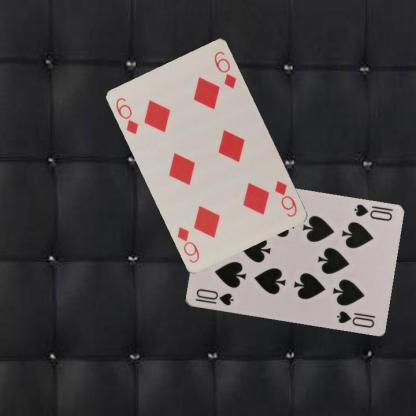10s: (350, 201, 394, 222), (192, 286, 235, 307)
6d: (272, 178, 299, 218), (114, 95, 140, 136)
